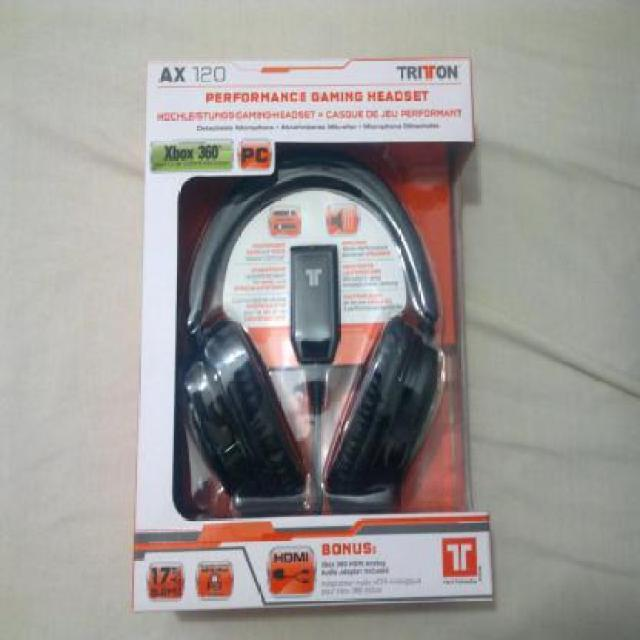earphone: (165, 146, 447, 516)
